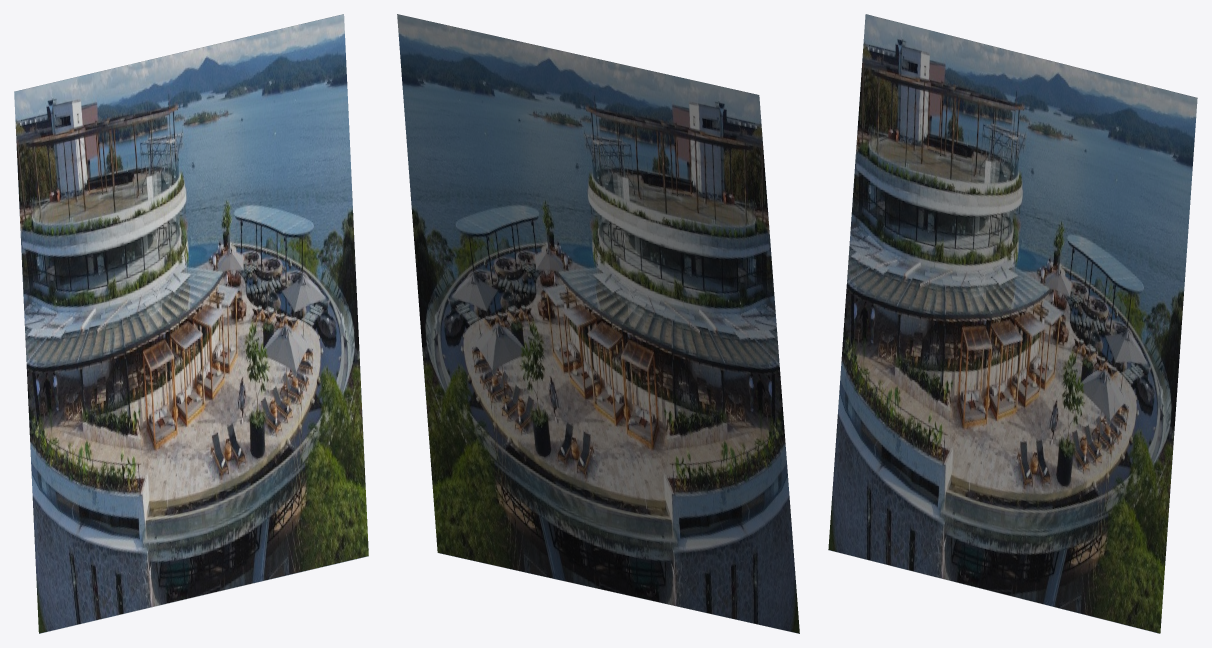
File: Img_1.v20260629i.glb
3 renders of one model, left to right at view 1: azimuth 30°, elevation 25°; view 2: azimuth 150°, elevation 25°; view 3: azimuth 330°, elevation 25°, orthographic. The views are drawn at different scales.
Parts seen in each view (by area): view 1: Plano; view 2: Plano; view 3: Plano.
Part boxes in pixels (x1,y1,x2,y2): Plano: [14, 14, 368, 633]; Plano: [397, 14, 799, 633]; Plano: [828, 14, 1197, 633].
Bounding box in the file's own units: 4.08 × 6.02 × 0.6905.
Materials: 1 (1 with a texture image).
